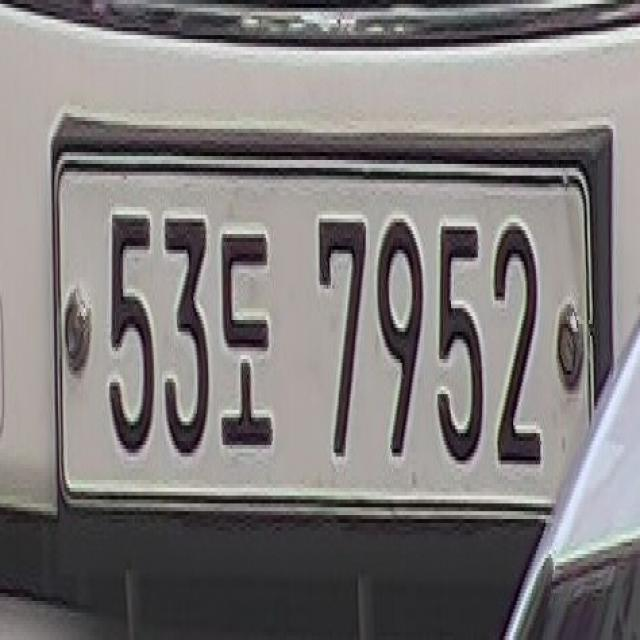2: (492, 195, 556, 504)
3: (158, 199, 219, 472)
5: (96, 192, 161, 464), (426, 215, 484, 468)
7: (306, 207, 379, 468)
9: (372, 188, 434, 472)
do: (211, 203, 278, 460)
license_plate: (52, 128, 616, 538)
